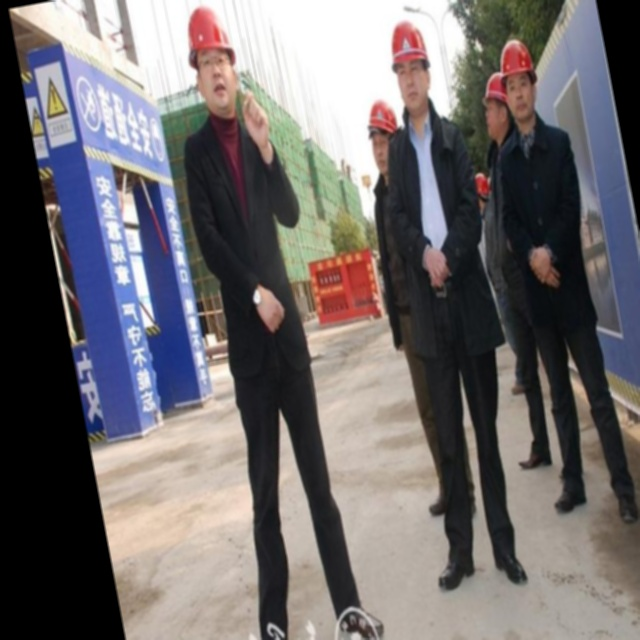Con_Casco: (178, 2, 248, 121), (383, 17, 439, 117), (495, 34, 545, 129)
